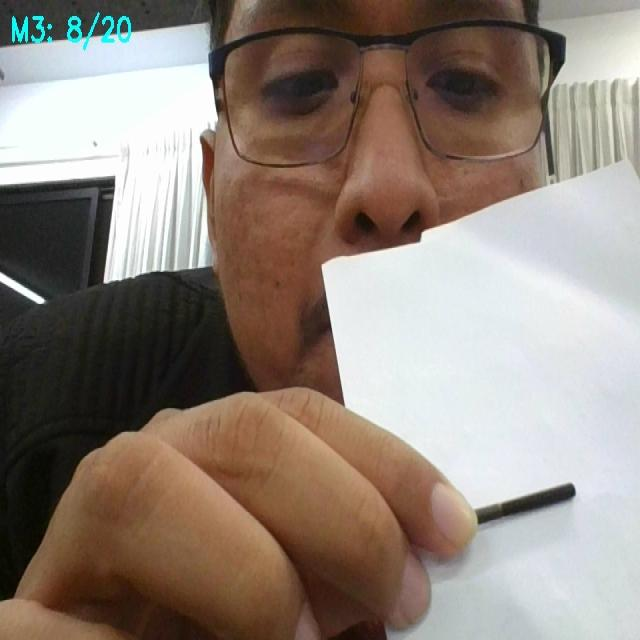vastago: (475, 483, 575, 524)
